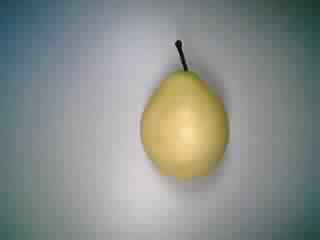pear: (123, 28, 242, 186)
